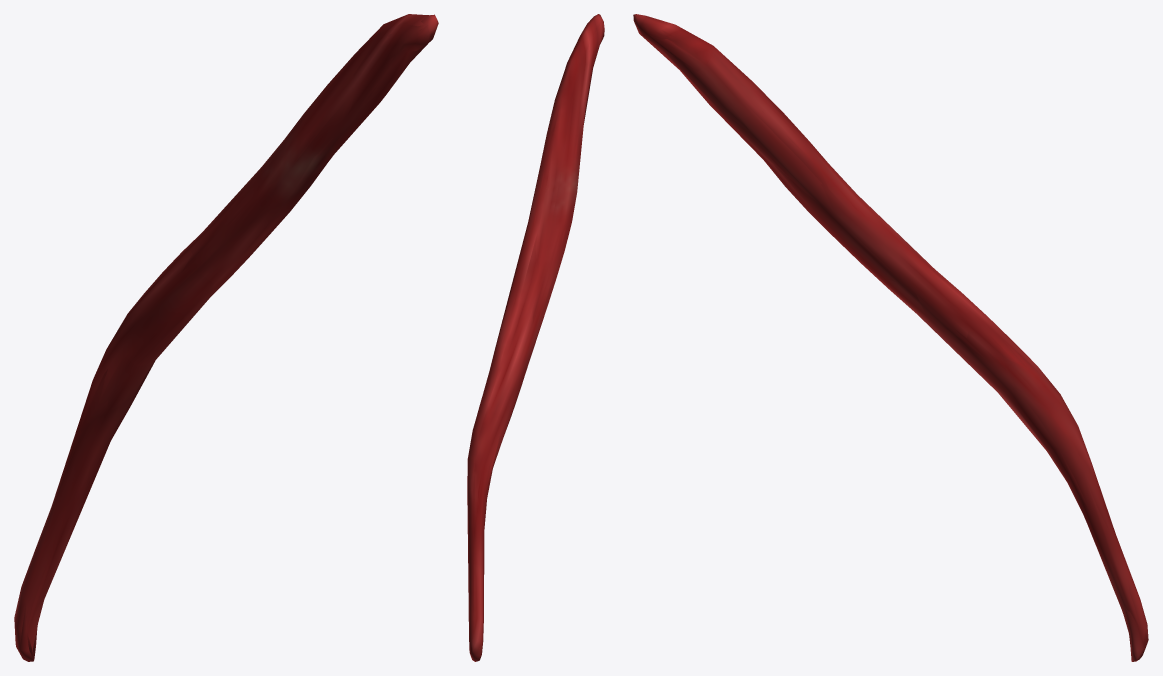
Rendered from R Triceps brachii caput accessorium.fbx.
3 renders of one model, left to right at view 1: azimuth 30°, elevation 25°; view 2: azimuth 150°, elevation 25°; view 3: azimuth 270°, elevation 25°, orthographic. The views are drawn at different scales.
Visible parts, largest first — view 1: R Triceps brachii caput accessorium, R Triceps brachii caput accessorium low, R Triceps brachii caput accessorium high; view 2: R Triceps brachii caput accessorium, R Triceps brachii caput accessorium low, R Triceps brachii caput accessorium high; view 3: R Triceps brachii caput accessorium low, R Triceps brachii caput accessorium, R Triceps brachii caput accessorium high.
Boxes of the visible parts, x1,y1,x2,y2 form: R Triceps brachii caput accessorium: [14, 14, 438, 661]; R Triceps brachii caput accessorium low: [15, 14, 437, 660]; R Triceps brachii caput accessorium high: [25, 15, 433, 640]; R Triceps brachii caput accessorium: [467, 14, 604, 661]; R Triceps brachii caput accessorium low: [467, 19, 604, 661]; R Triceps brachii caput accessorium high: [468, 20, 602, 657]; R Triceps brachii caput accessorium low: [635, 17, 1147, 659]; R Triceps brachii caput accessorium: [633, 14, 1148, 661]; R Triceps brachii caput accessorium high: [637, 18, 1143, 660].
Size of the model in its own units: 0.91 by 6.04 by 4.11.
Materials: 1 (1 with a texture image).
